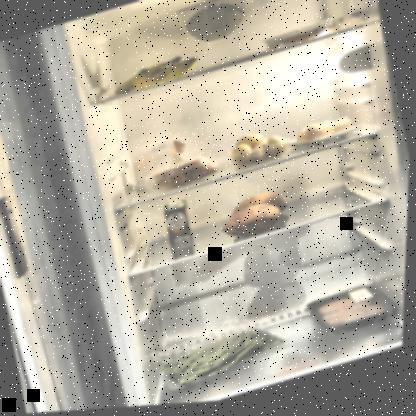banana: (111, 51, 205, 100)
chicken: (307, 281, 406, 349)
eggs: (291, 116, 359, 157)
green_beans: (156, 317, 294, 397)
heavy_cream: (162, 198, 200, 249)
potato: (227, 126, 293, 174)
shrimp: (264, 25, 342, 58)
sweet_potato: (218, 187, 295, 248)
